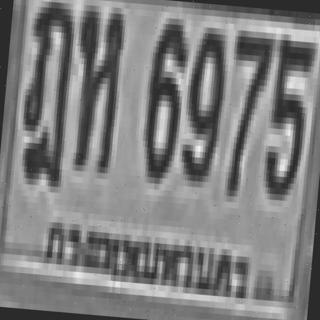A14: (15, 0, 74, 181)
A41: (68, 0, 124, 168)
N05: (260, 33, 314, 196)
N06: (140, 11, 187, 179)
N07: (222, 24, 272, 192)
N09: (178, 20, 226, 176)
P04: (35, 206, 255, 308)
